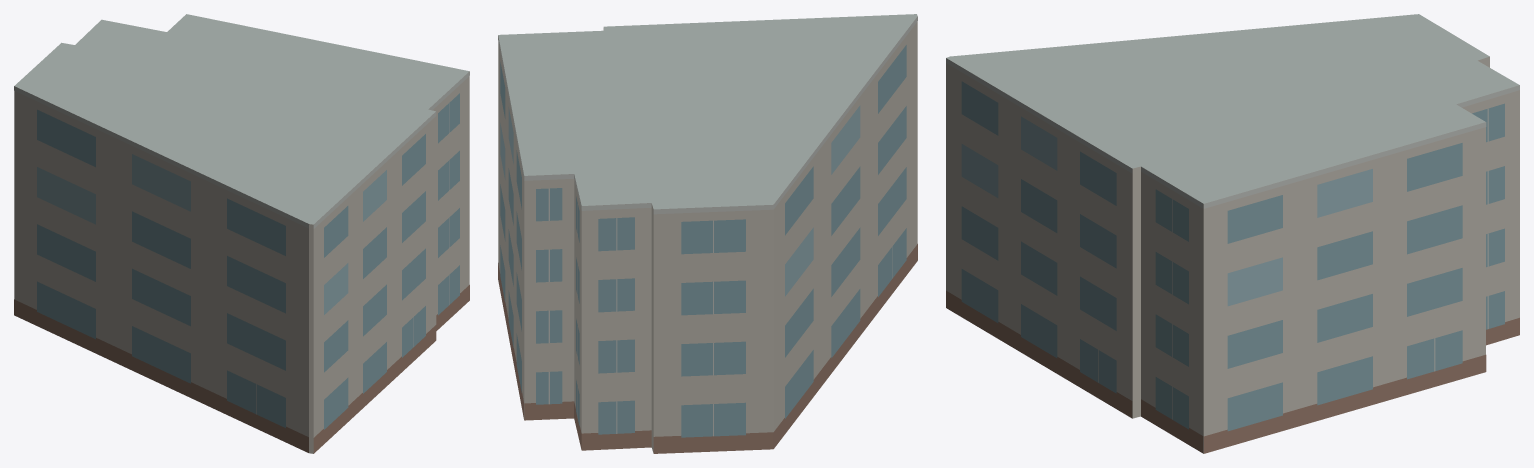
Rendered from survey-upis-32838420.glb.
The picture shows the model from 3 angles, left to right: view 1: azimuth 30°, elevation 25°; view 2: azimuth 150°, elevation 25°; view 3: azimuth 270°, elevation 25°; orthographic projection. The views are drawn at different scales.
Visible parts, largest first — view 1: survey-upis-32838420.tmp; view 2: survey-upis-32838420.tmp; view 3: survey-upis-32838420.tmp.
Part boxes in pixels (<box>): survey-upis-32838420.tmp: <box>14,14,469,453</box>; survey-upis-32838420.tmp: <box>498,14,917,453</box>; survey-upis-32838420.tmp: <box>946,14,1519,453</box>.
Size of the model in its own units: 19.88 by 12.2 by 25.38.
